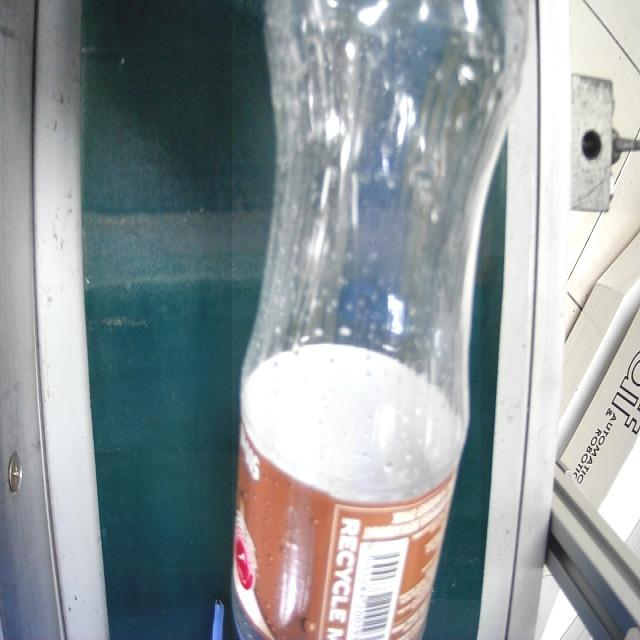Pet_Bottle: (232, 0, 481, 640)
